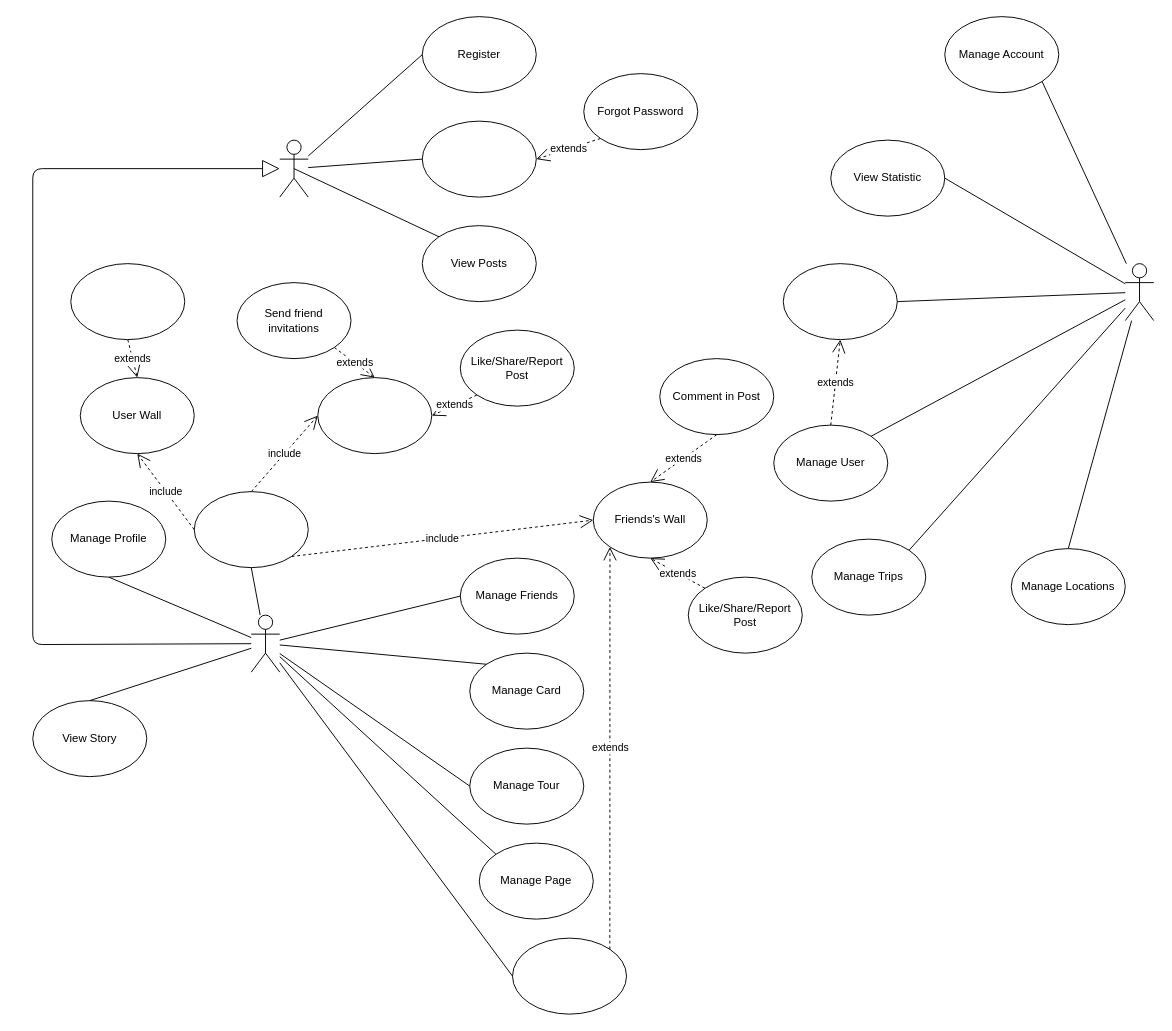
Some shapes in this 1172 by 1031 pixel diagram are drawn without their labels. Here are the shapes that lost their labels. From the top down, the centre of each, then its label:
At (293,168): "User No Login".
At (478,158): "Login".
At (127,301): "Manage Posts".
At (839,301): "Manage Report".
At (1139,292): "Admin".
At (374,415): "Strangers' wall".
At (250,529): "View Wall".
At (265,643): "User Login".
At (569,975): "Chat".
